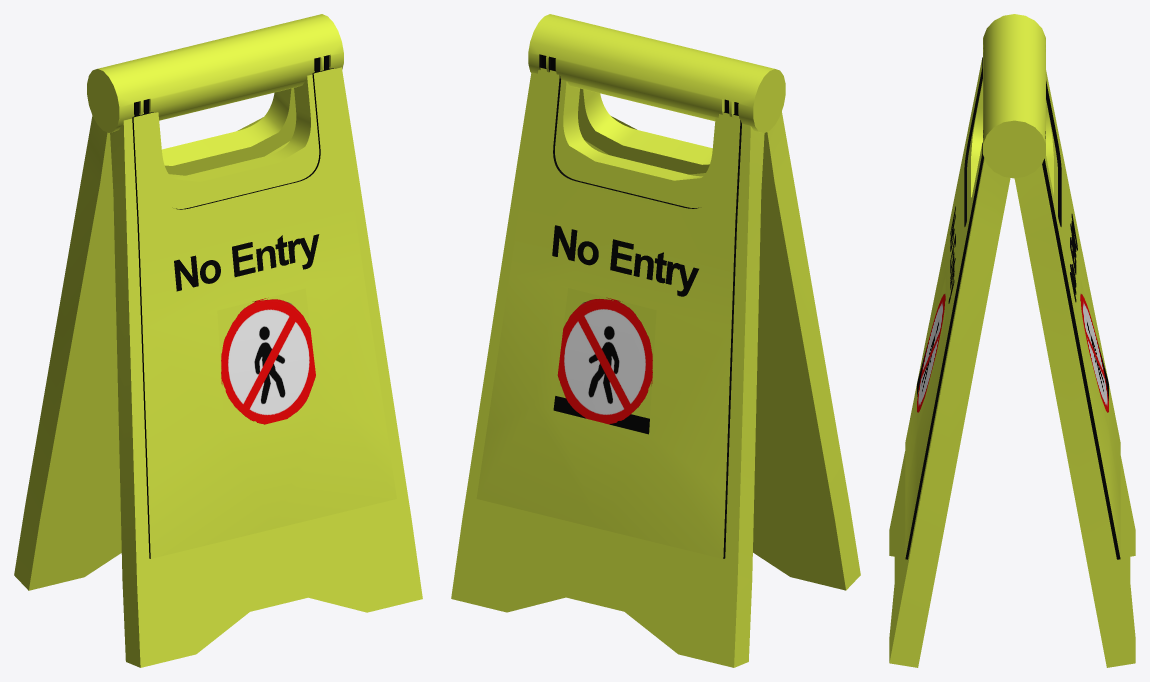
Rendered from 告示牌2.fbx.
3 renders of one model, left to right at view 1: azimuth 30°, elevation 25°; view 2: azimuth 150°, elevation 25°; view 3: azimuth 270°, elevation 25°, orthographic. The views are drawn at different scales.
Parts seen in each view (by area): view 1: Box012, Box011, Box023, Cylinder003, Text002; view 2: Box024, Box023, Box011, Cylinder003, Text003; view 3: Box011, Box023, Cylinder003, Box024, Box012, Text003.
Part boxes in pixels (box(x1,y1,x2,y2)): Box012: box(132, 68, 396, 558); Box011: box(110, 67, 422, 667); Box023: box(14, 88, 296, 590); Cylinder003: box(87, 14, 343, 132); Text002: box(174, 234, 319, 291); Box024: box(476, 67, 741, 558); Box023: box(451, 72, 764, 667); Box011: box(578, 88, 860, 590); Cylinder003: box(528, 14, 785, 133); Text003: box(552, 225, 698, 296); Box011: box(889, 79, 1010, 667); Box023: box(1014, 100, 1135, 667); Cylinder003: box(983, 14, 1045, 178); Box024: box(1042, 70, 1120, 559); Box012: box(905, 57, 983, 559); Text003: box(1070, 214, 1077, 302).
Bounding box in the file's own units: 12.87 × 23.87 × 9.99.
Materials: 3 (1 with a texture image).
